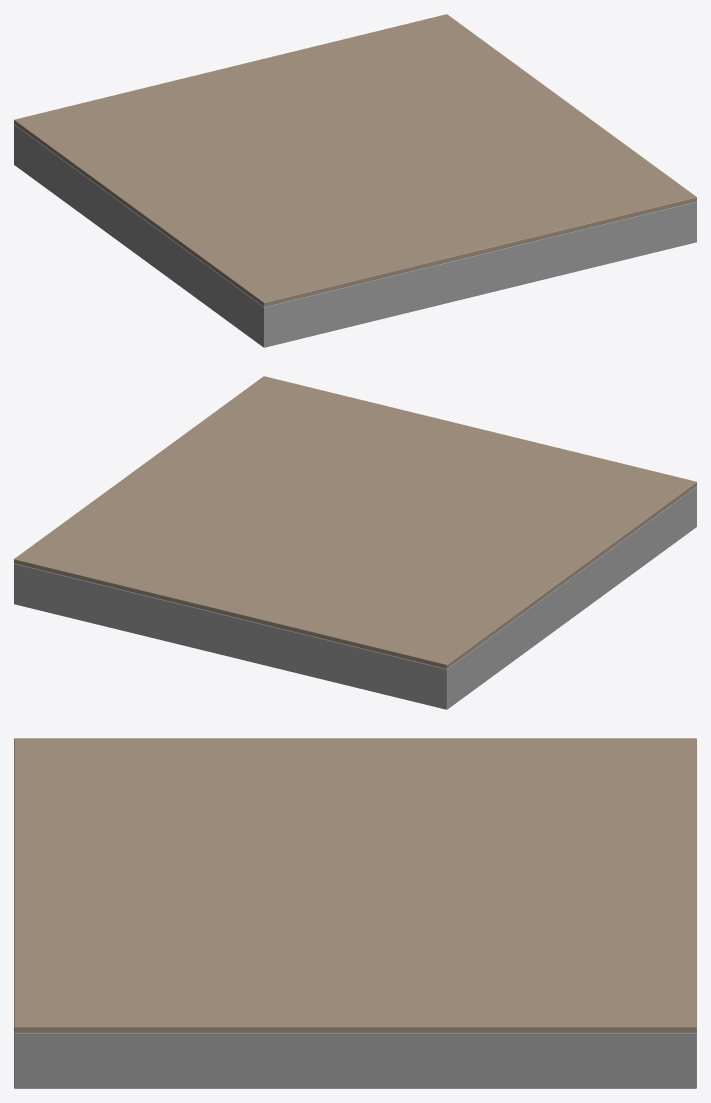
File: floor_tile_2m.glb
3 views of the same model, one above another, from view 1: azimuth 30°, elevation 25°; view 2: azimuth 150°, elevation 25°; view 3: azimuth 270°, elevation 25° (orthographic). The views are drawn at different scales.
Visible parts, largest first — view 1: floor_oak_finish, floor_concrete_slab; view 2: floor_oak_finish, floor_concrete_slab; view 3: floor_oak_finish, floor_concrete_slab.
Part boxes in pixels (bbox=[...]): floor_oak_finish: bbox=[14, 14, 696, 306]; floor_concrete_slab: bbox=[14, 124, 696, 347]; floor_oak_finish: bbox=[14, 376, 696, 668]; floor_concrete_slab: bbox=[14, 486, 696, 709]; floor_oak_finish: bbox=[14, 738, 696, 1032]; floor_concrete_slab: bbox=[14, 1032, 696, 1088].
Bounding box in the file's own units: 2 × 0.2 × 2.
